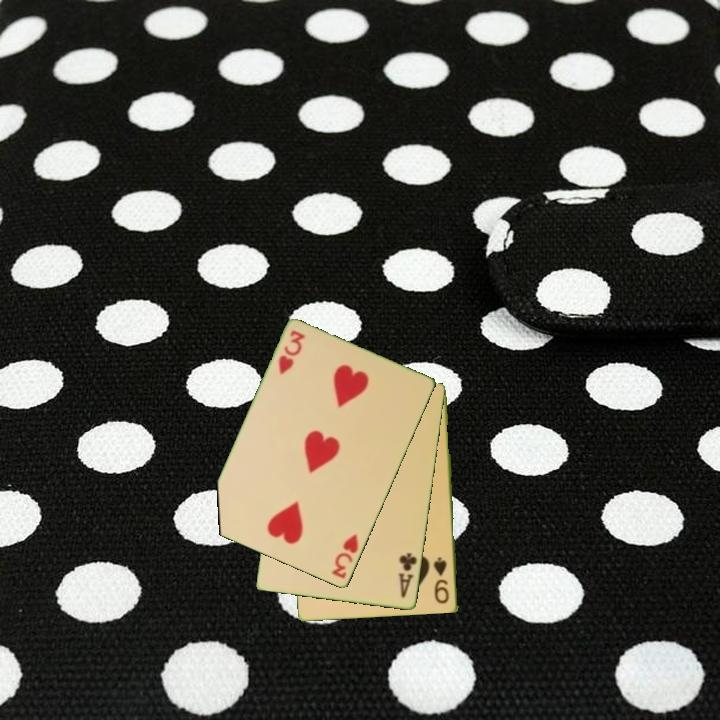3h: (328, 531, 362, 582), (275, 327, 308, 378)
9s: (430, 554, 452, 607)
Ac: (395, 549, 420, 601)
